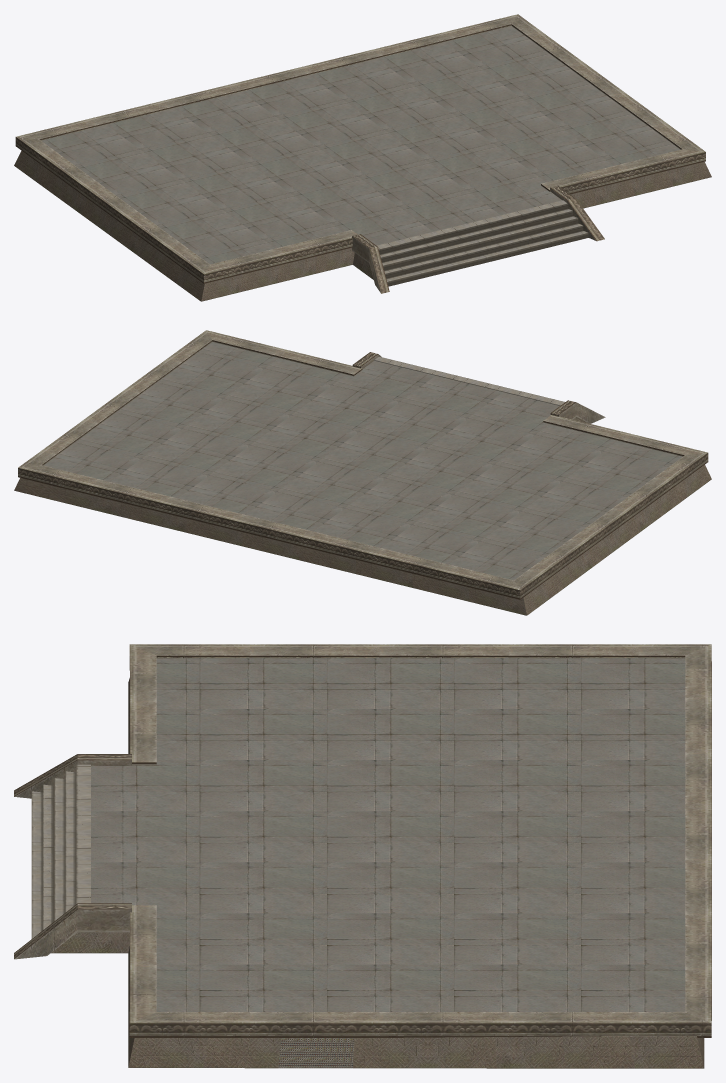
The model's file is cj_luoyang_dizhuo01_56_04_5851out.fbx.
The picture shows the model from 3 angles, top to bottom: view 1: azimuth 30°, elevation 25°; view 2: azimuth 150°, elevation 25°; view 3: azimuth 270°, elevation 25°; orthographic projection. The views are drawn at different scales.
Parts seen in each view (by area): view 1: 0000_cj_luoyang_dizhuo01, 0001_cj_luoyang_dizhuo01; view 2: 0000_cj_luoyang_dizhuo01, 0001_cj_luoyang_dizhuo01; view 3: 0000_cj_luoyang_dizhuo01, 0001_cj_luoyang_dizhuo01.
Boxes of the visible parts, box(x1,y1,x2,y2) form: 0000_cj_luoyang_dizhuo01: box(14, 14, 711, 301); 0001_cj_luoyang_dizhuo01: box(377, 200, 588, 286); 0000_cj_luoyang_dizhuo01: box(14, 330, 711, 615); 0001_cj_luoyang_dizhuo01: box(374, 356, 564, 405); 0000_cj_luoyang_dizhuo01: box(14, 644, 711, 1068); 0001_cj_luoyang_dizhuo01: box(31, 764, 90, 938).
Size of the model in its own units: 14.01 by 0.7323 by 10.68.
